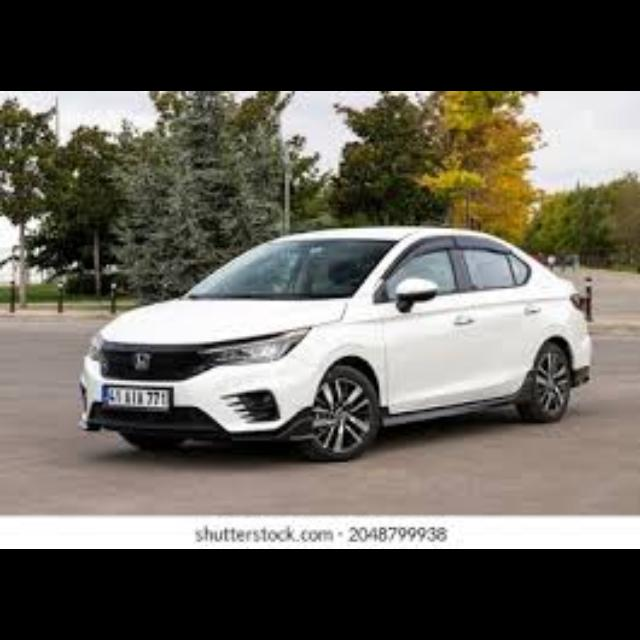vehicles: (68, 218, 594, 468)
